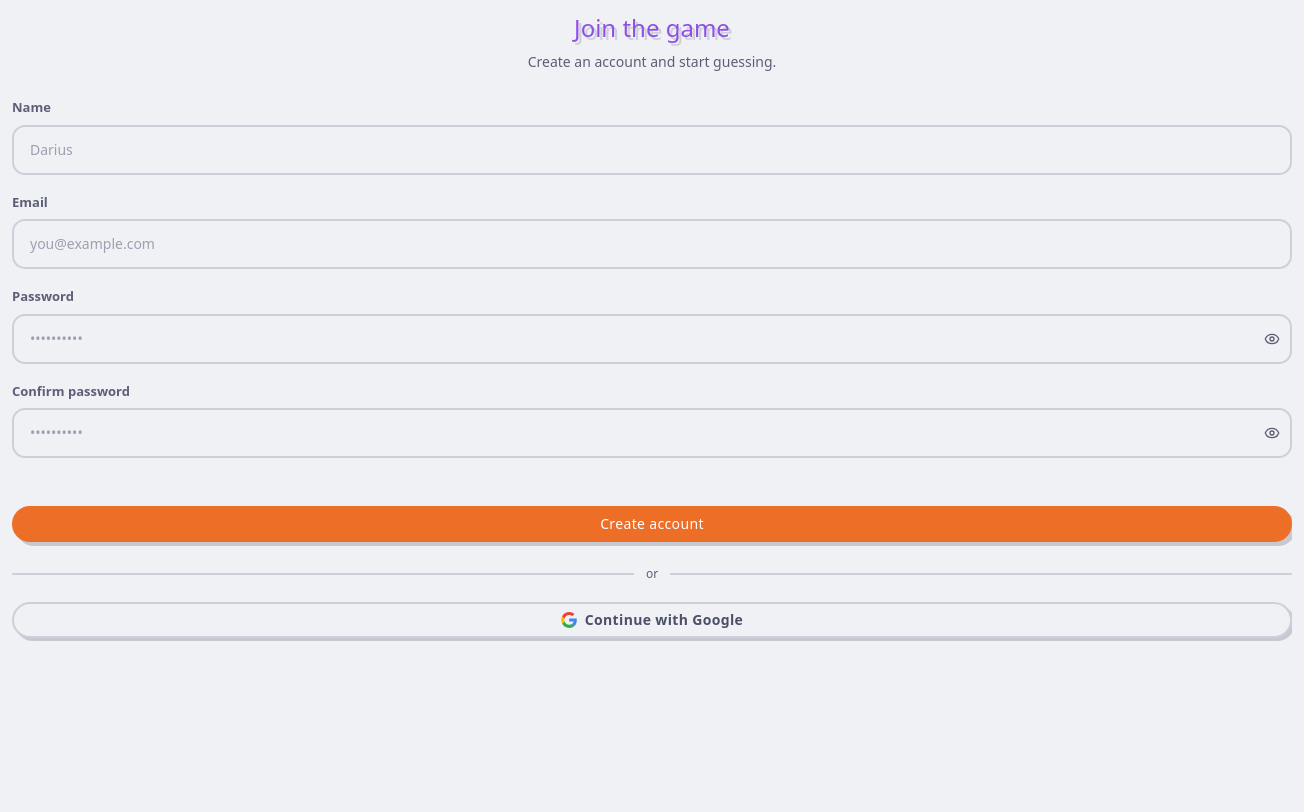
Test: RegisterPage › rejects mismatched passwords
In the password field labelled "Password": (652, 338) left=12, top=314, right=1292, bottom=364, type "CorrectHorseBatteryStaple1!"
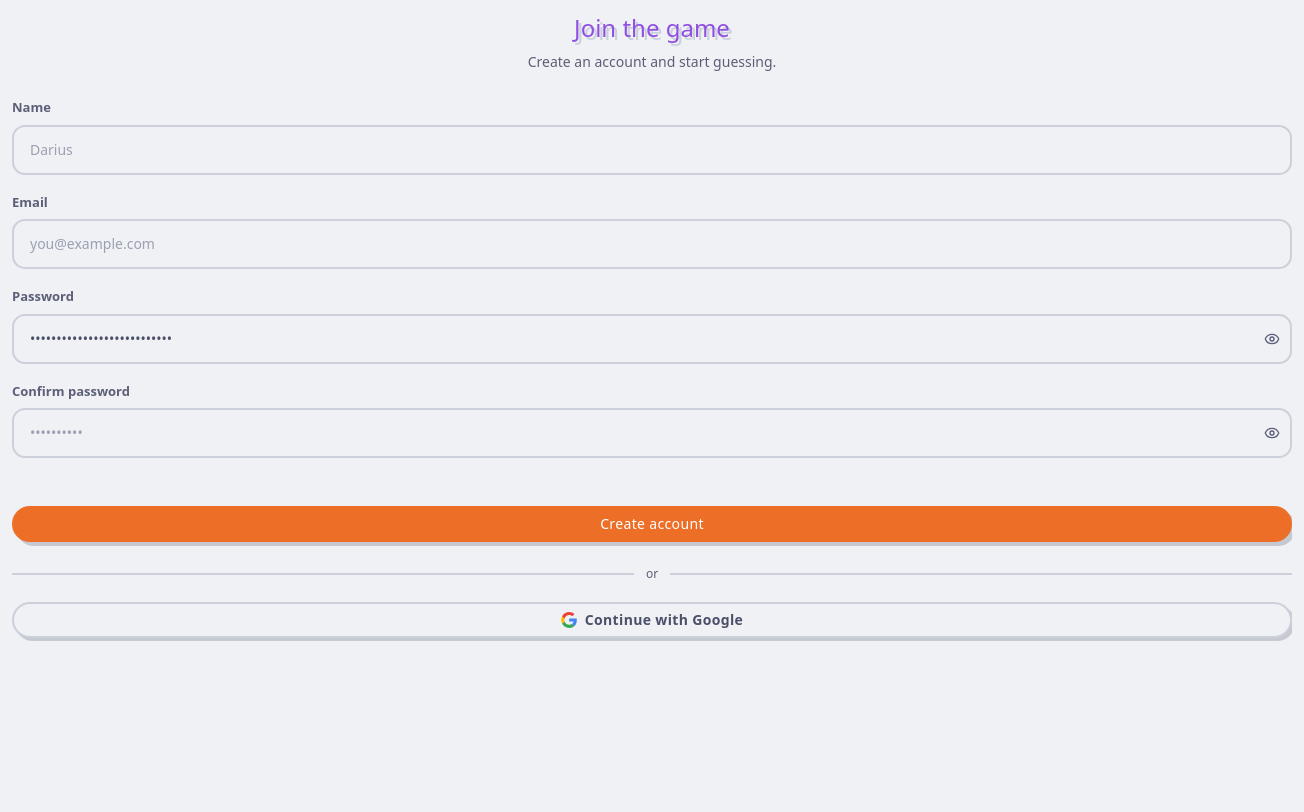
In the password field labelled "Confirm password": (652, 433) left=12, top=408, right=1292, bottom=458, type "DifferentHorseBatteryStaple1!"
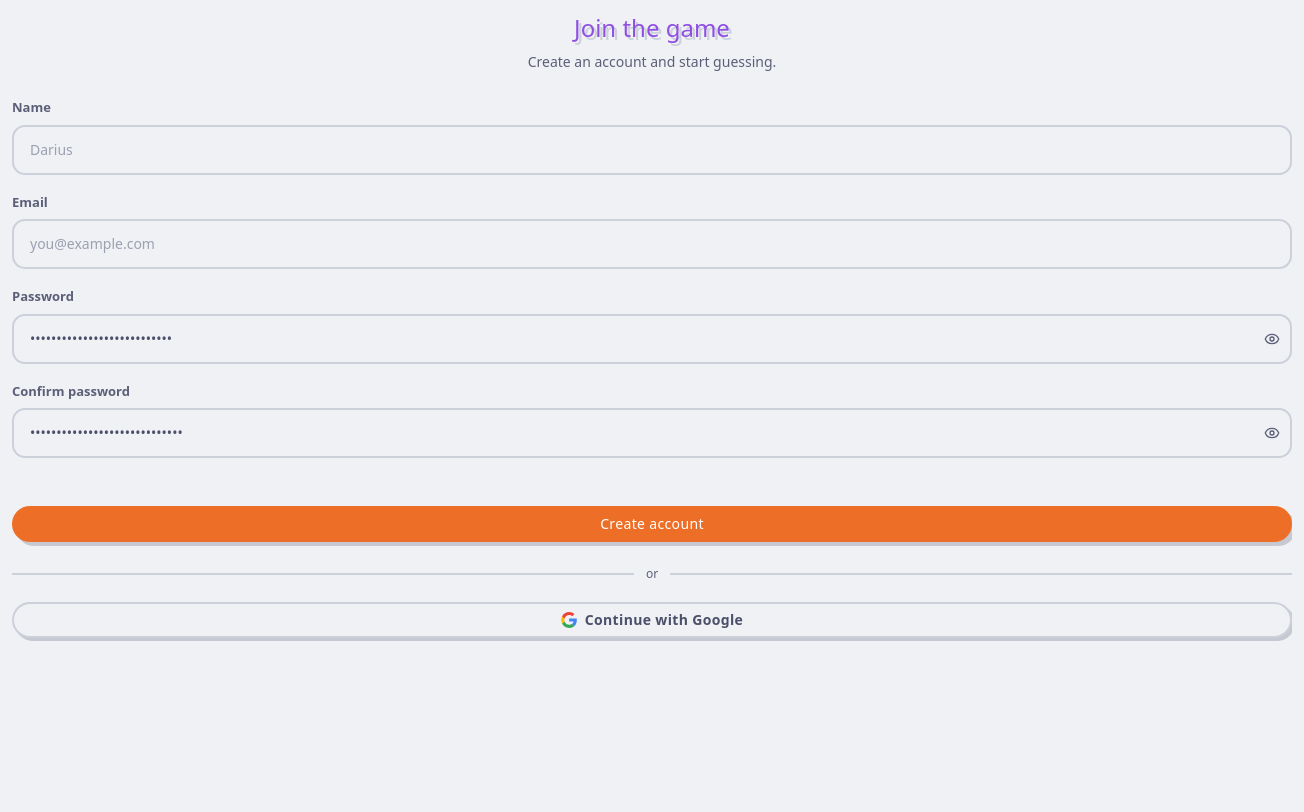
Click the button "Create account": (652, 524) left=12, top=506, right=1292, bottom=542
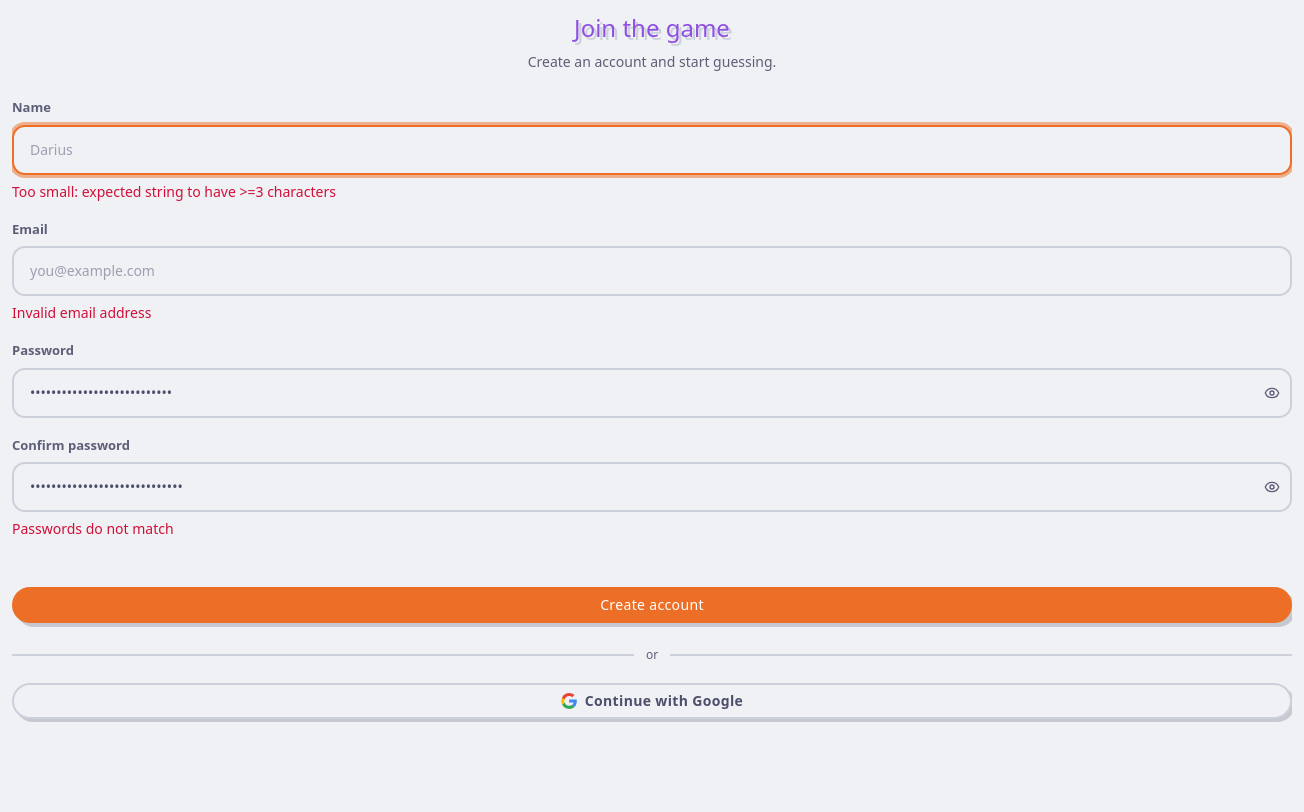
Check: the text "Passwords do not match" is shown, box left=12, top=519, right=174, bottom=538
